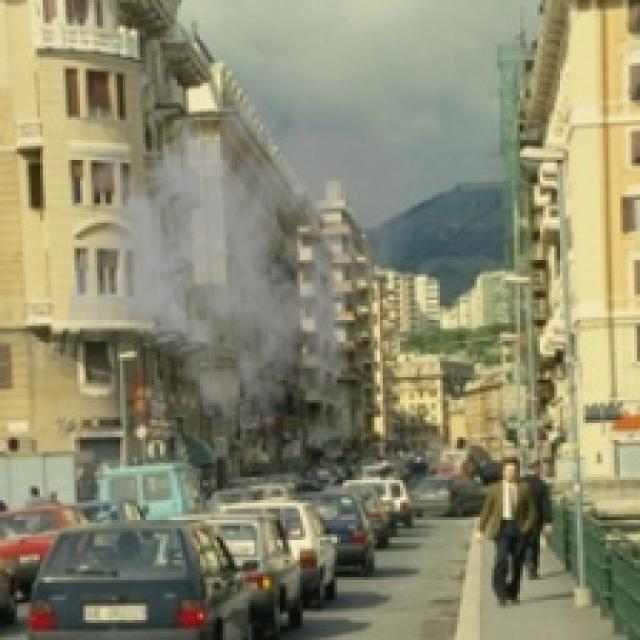smoke: (63, 52, 420, 434)
